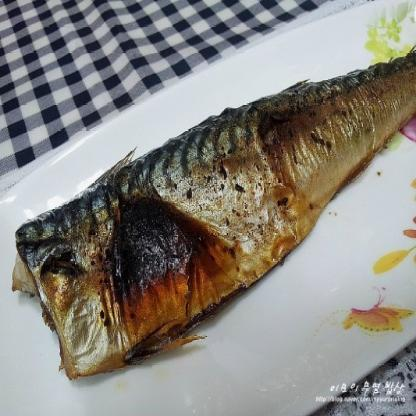Peixe: (8, 48, 416, 396)
